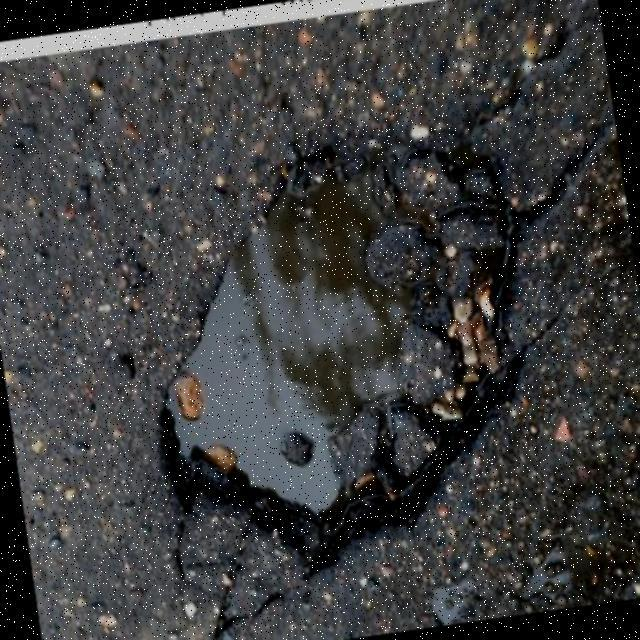Pothole: (161, 138, 528, 578)
